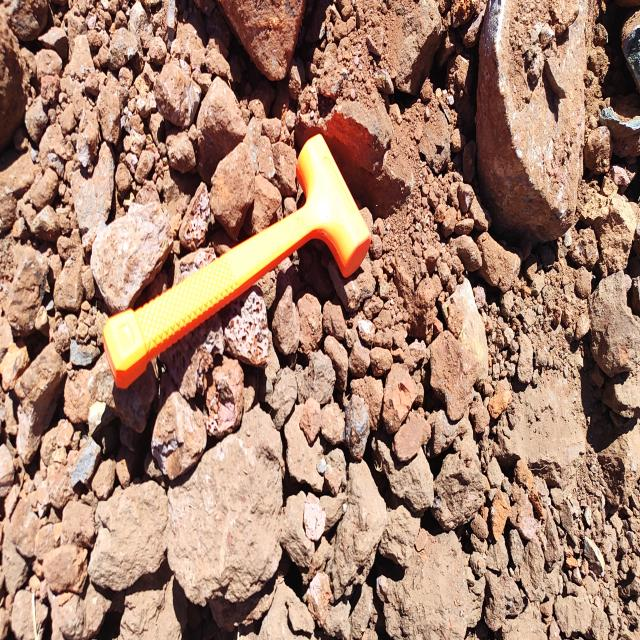Orange_hammer: (101, 131, 372, 391)
